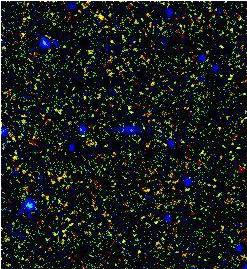star: (85, 0, 115, 29)
